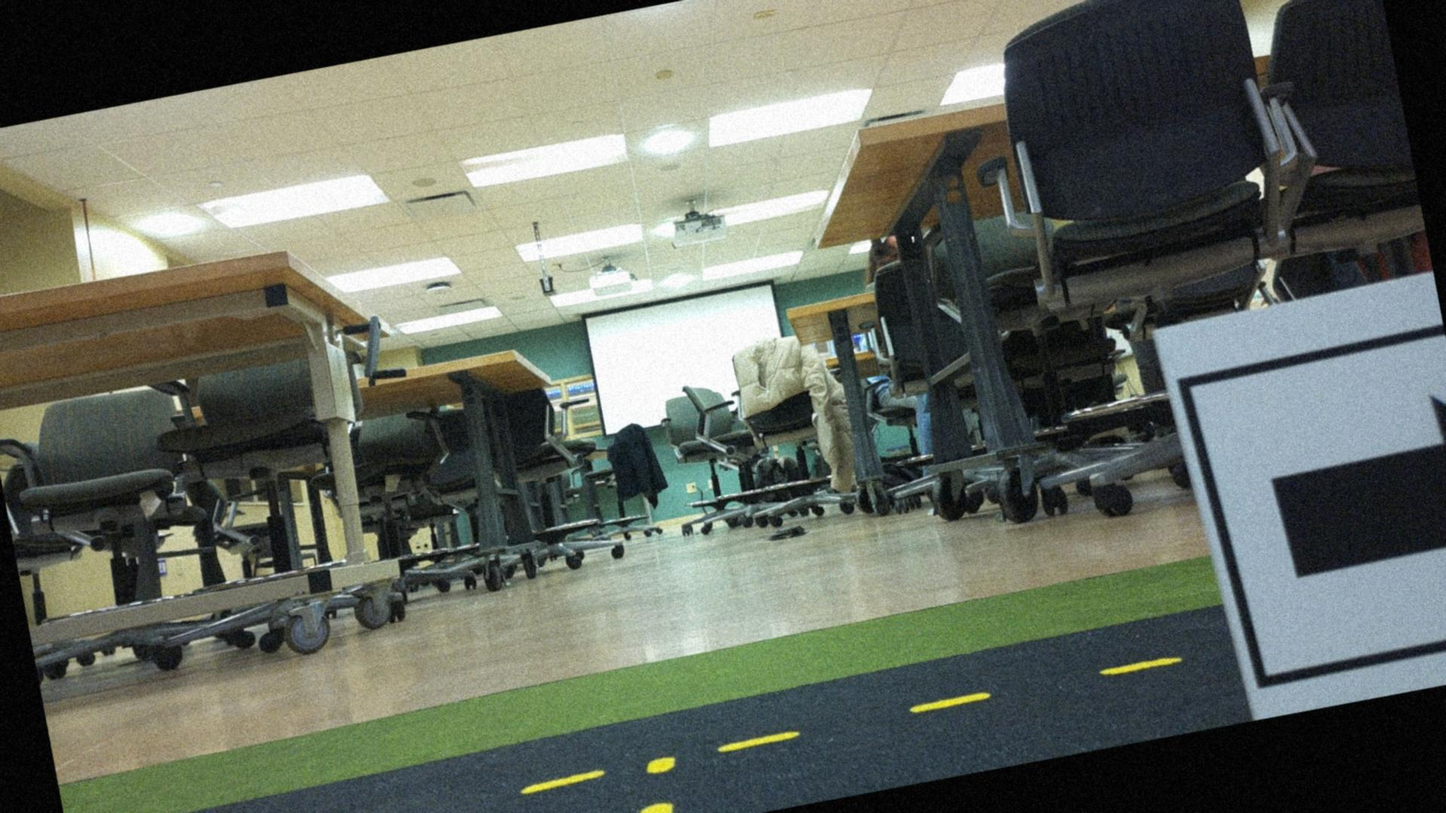yellowline: (96, 651, 1182, 812)
